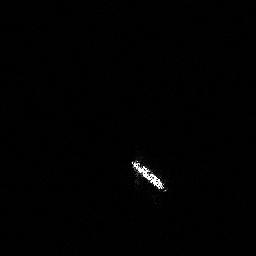ship: (130, 157, 168, 196)
